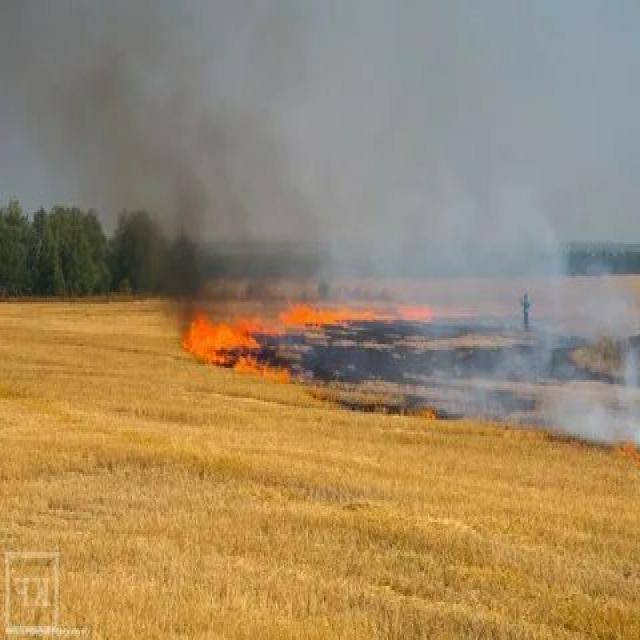Fire: (158, 256, 468, 388)
Smoke: (463, 203, 640, 435)
